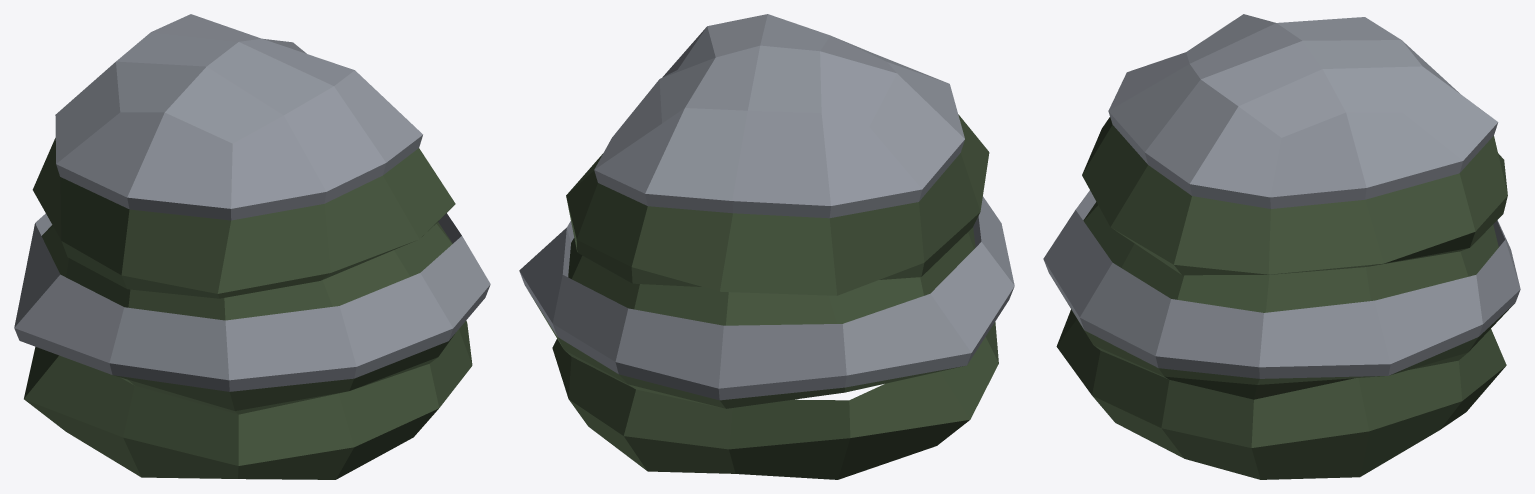
File: sn_bush_2.glb
3 renders of one model, left to right at view 1: azimuth 30°, elevation 25°; view 2: azimuth 150°, elevation 25°; view 3: azimuth 270°, elevation 25°, orthographic. The views are drawn at different scales.
Parts seen in each view (by area): view 1: Bush_Snow_2; view 2: Bush_Snow_2; view 3: Bush_Snow_2.
Part boxes in pixels (x1=…): Bush_Snow_2: x1=14, y1=14, x2=490, y2=479; Bush_Snow_2: x1=519, y1=14, x2=1014, y2=479; Bush_Snow_2: x1=1043, y1=14, x2=1520, y2=479.
Bounding box in the file's own units: 1.36 × 1.16 × 1.36.
